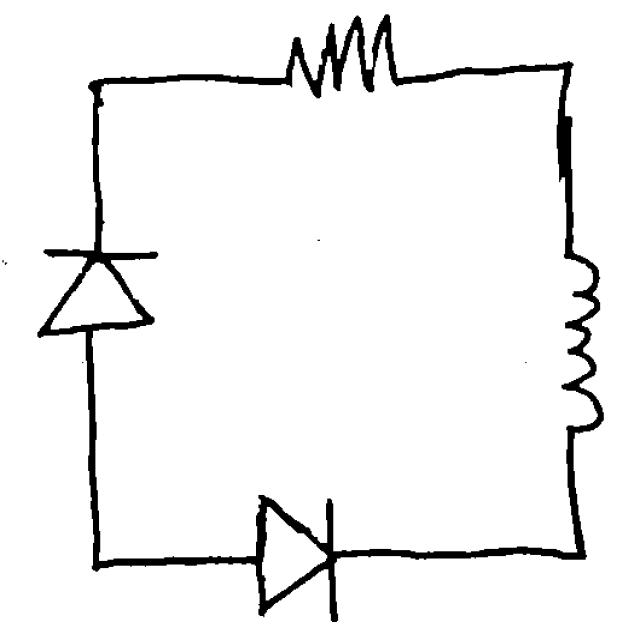diode: (19, 225, 178, 349), (235, 477, 357, 631)
inductor: (536, 224, 627, 456)
resistor: (266, 3, 426, 108)
